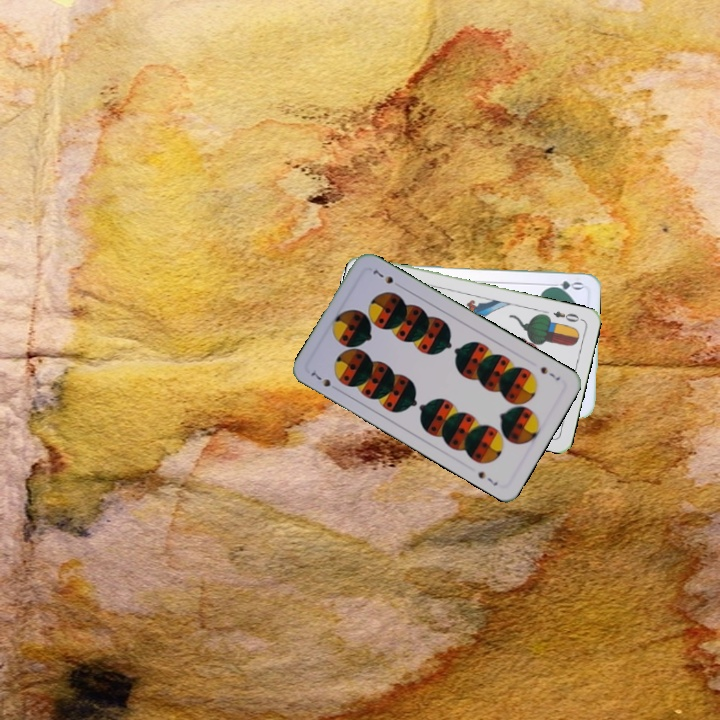EO: (549, 307, 582, 325)
GO: (544, 277, 585, 293)
S7: (306, 365, 342, 394), (536, 362, 563, 383)
